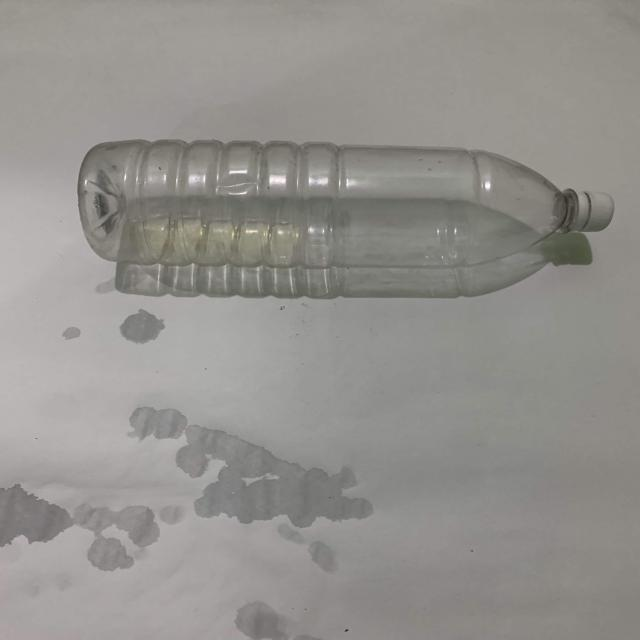bottle: (69, 136, 625, 272)
